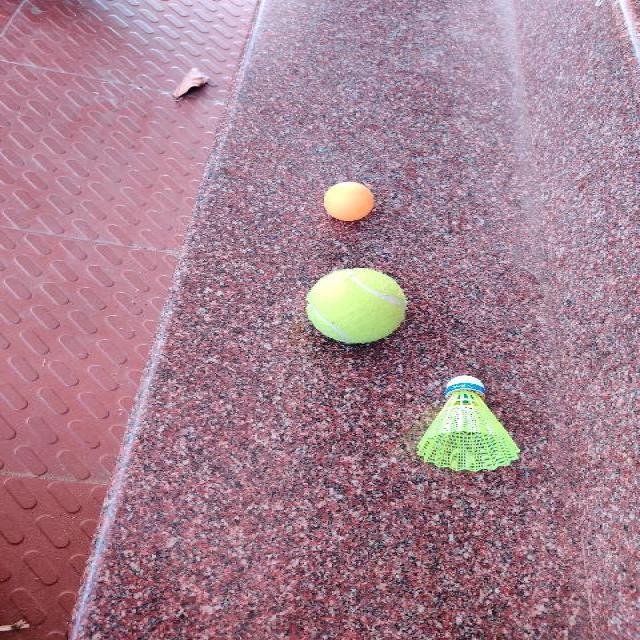oball: (323, 181, 373, 223)
